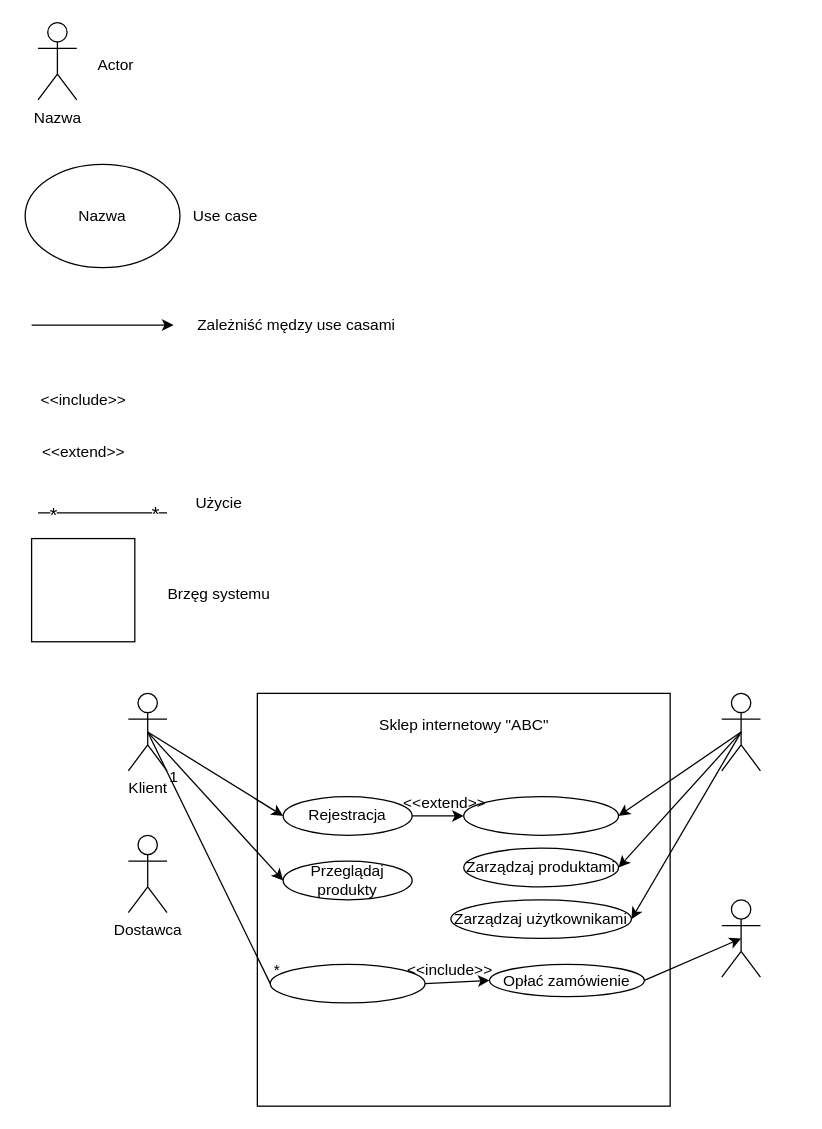
This 822x1129 diagram has some shape labels left out. Each missing label, with the box of its shape:
Administrator: (720, 692, 760, 771)
Logowanie: (462, 795, 619, 835)
Nazwa Systemu: (30, 537, 135, 642)
System płatności: (720, 898, 760, 977)
Złóż zamówienie: (269, 963, 425, 1003)
